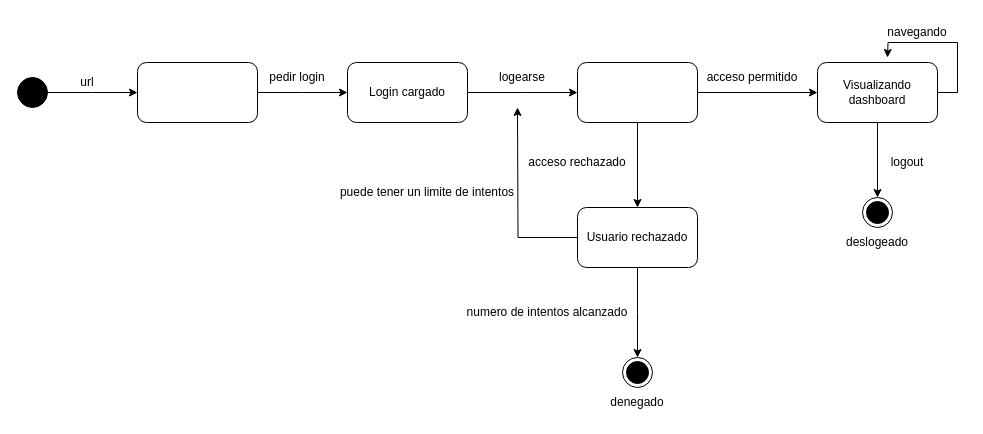
The diagram is 983 pixels wide and 434 high, and some of its shapes have lost their labels. The centre of each missing label's shape, as x and y in pixels:
Inicio cargado: point 197,92
Usuario en validación: point 637,92
